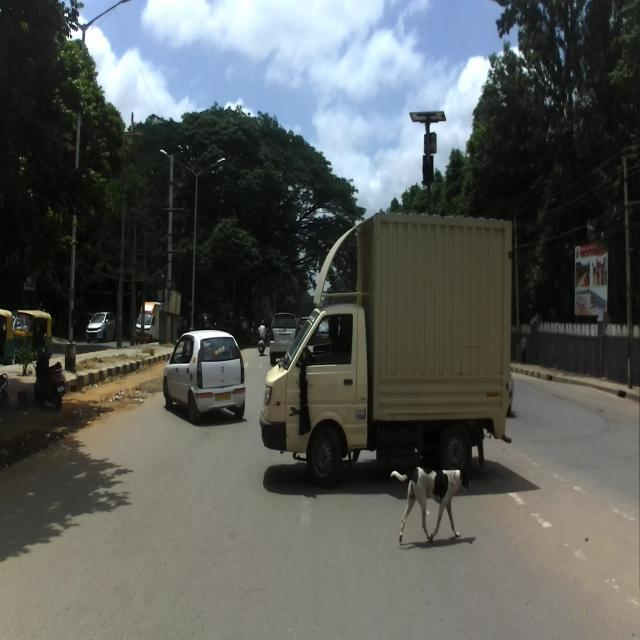car: (163, 328, 245, 425)
scooter: (32, 330, 66, 413)
truck: (259, 215, 512, 498)
